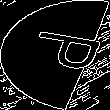P_E: (9, 31, 101, 79)
